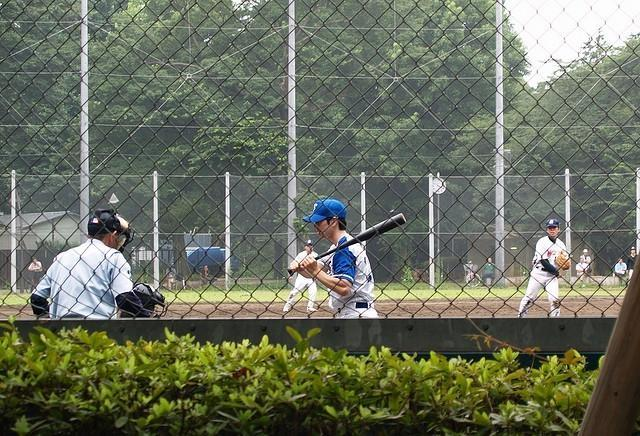bicycle: (464, 260, 482, 288)
